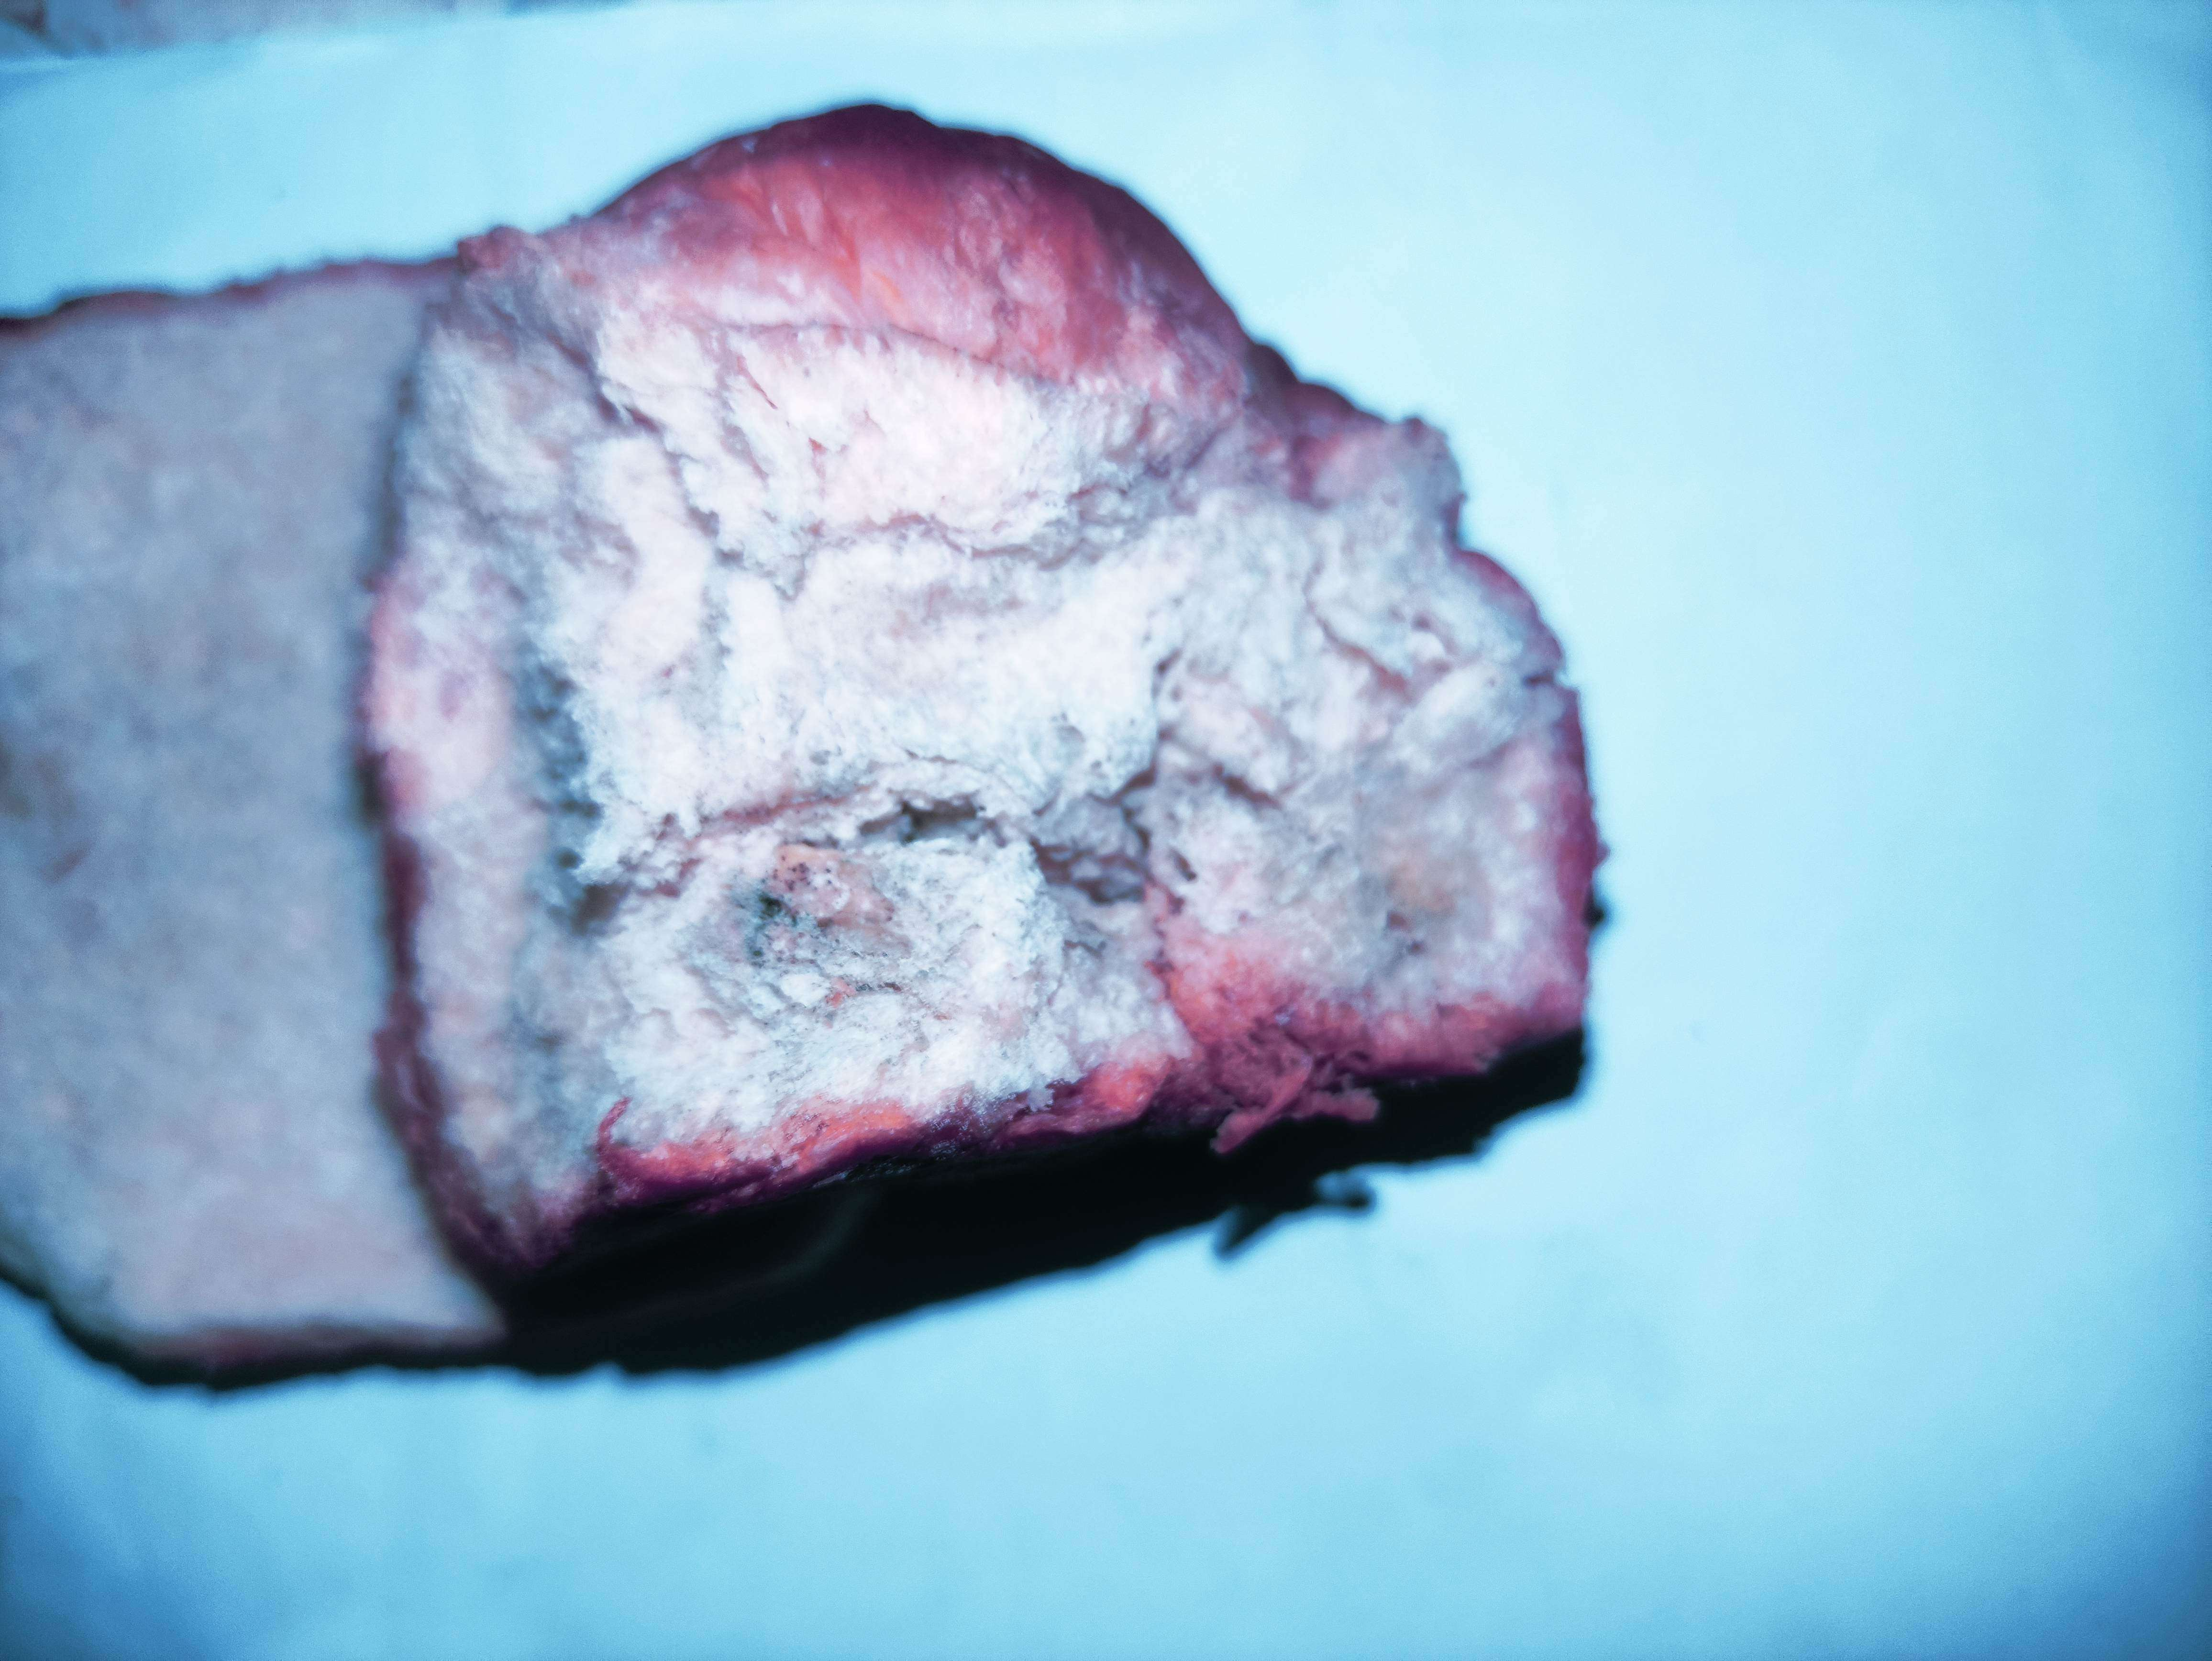mold_bread: (1335, 825, 1514, 956), (771, 851, 916, 965), (698, 883, 783, 1010), (1061, 885, 1139, 986), (827, 972, 918, 1005)
